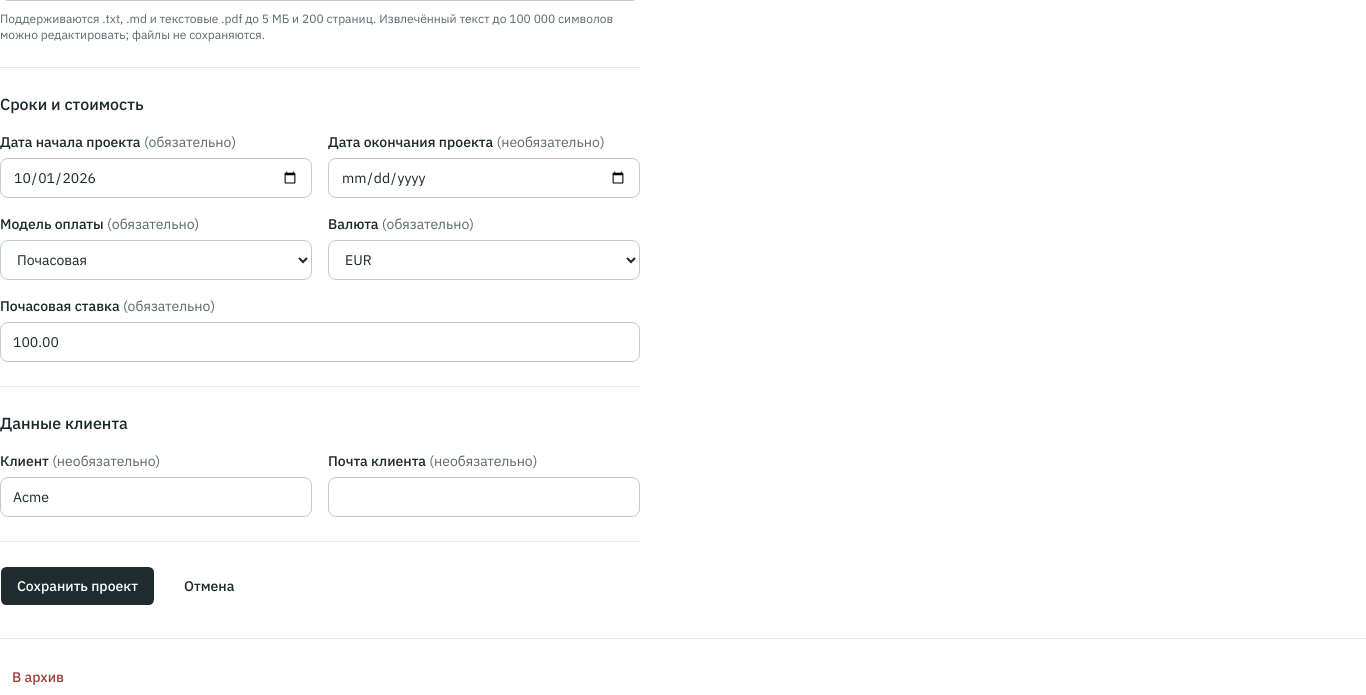
Test: offers deletion from the edit form in ru
This screenshot has width=1366, height=695.
(page scrolled)
Expected: the field named "clientName" holds "Acme", [0, 477, 312, 517]
Click the button "В архив" at x=38, y=677, box [0, 659, 76, 694]
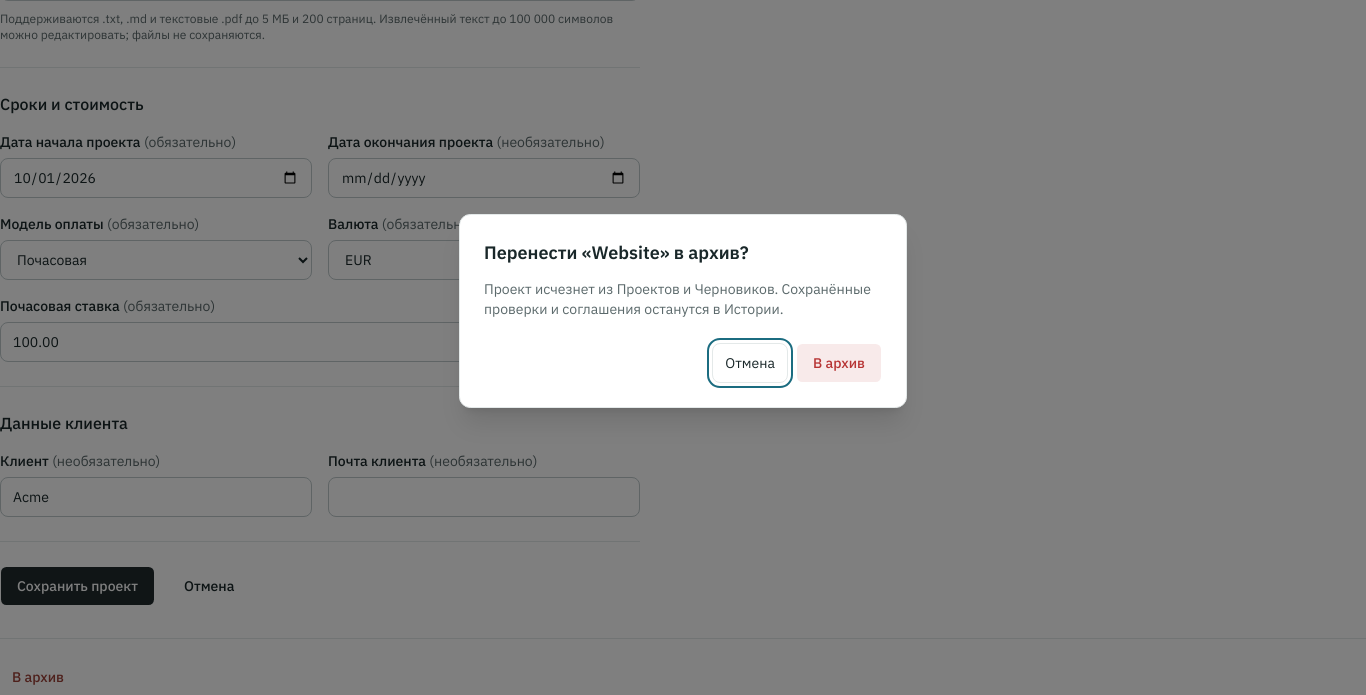
Now the dialog is shown, box [459, 214, 907, 408]
